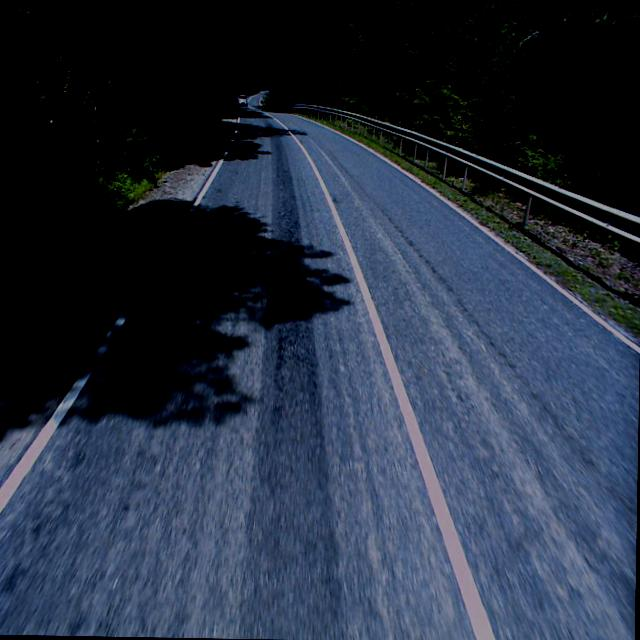road: (0, 91, 639, 640)
